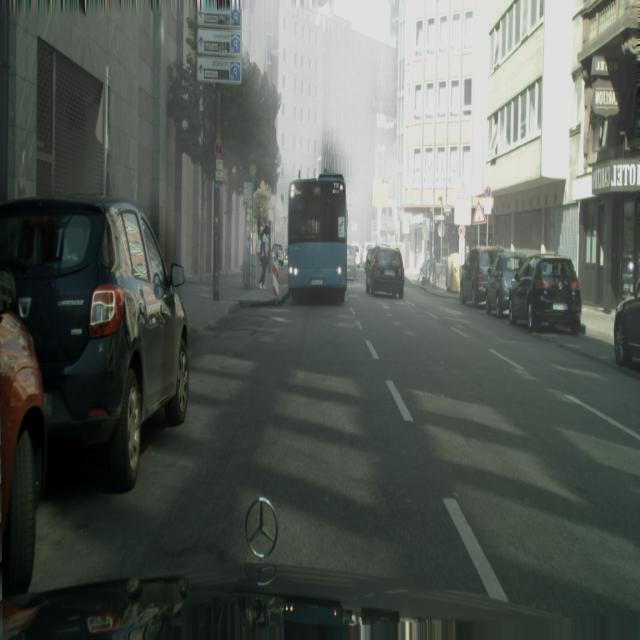motorcycle: (288, 173, 348, 304)
person: (258, 226, 270, 289)
truck: (0, 193, 189, 491), (0, 271, 49, 601), (508, 253, 582, 334), (484, 251, 526, 318), (459, 246, 498, 307), (365, 246, 405, 298), (613, 294, 640, 370), (347, 244, 358, 281)
